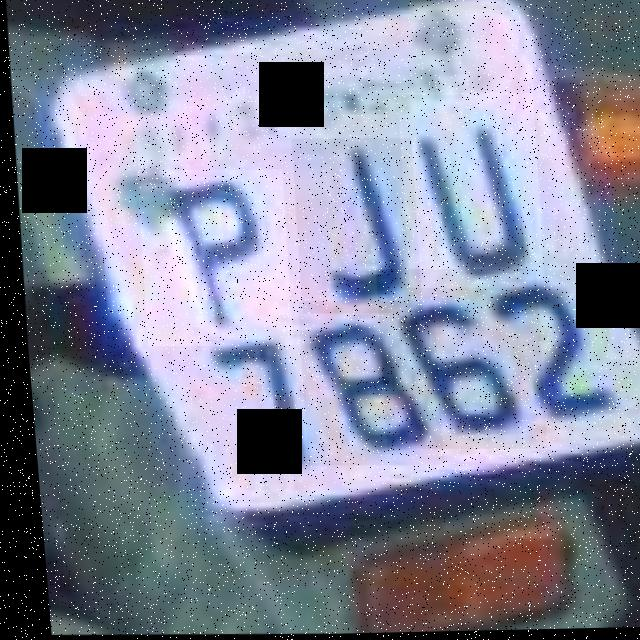2: (455, 251, 635, 437)
6: (368, 268, 542, 453)
7: (178, 316, 337, 493)
8: (289, 300, 439, 469)
J: (285, 138, 420, 317)
P: (131, 168, 290, 349)
U: (392, 92, 543, 292)
